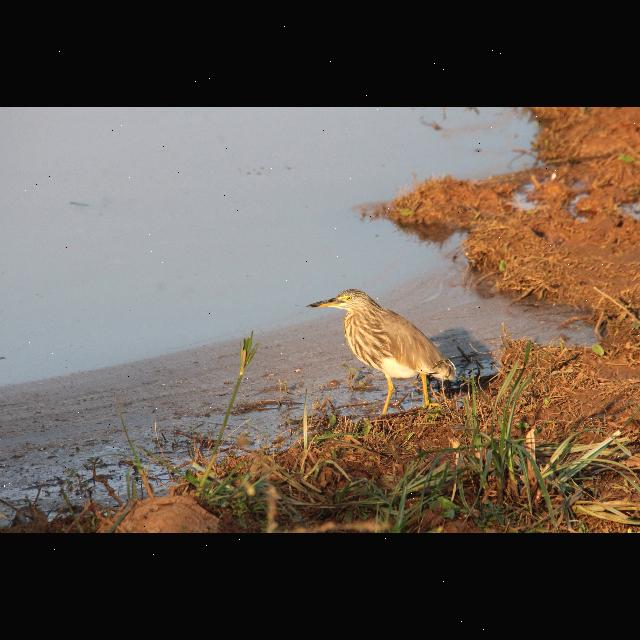heron: (304, 289, 450, 417)
